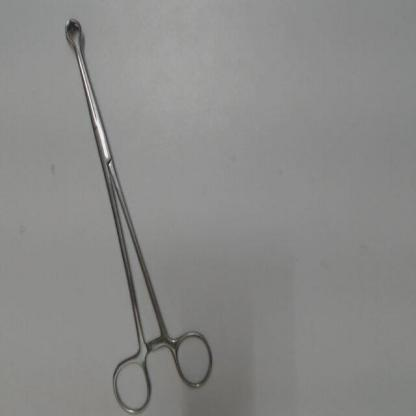8 Babcock Tissue Forceps: (59, 9, 218, 412)
